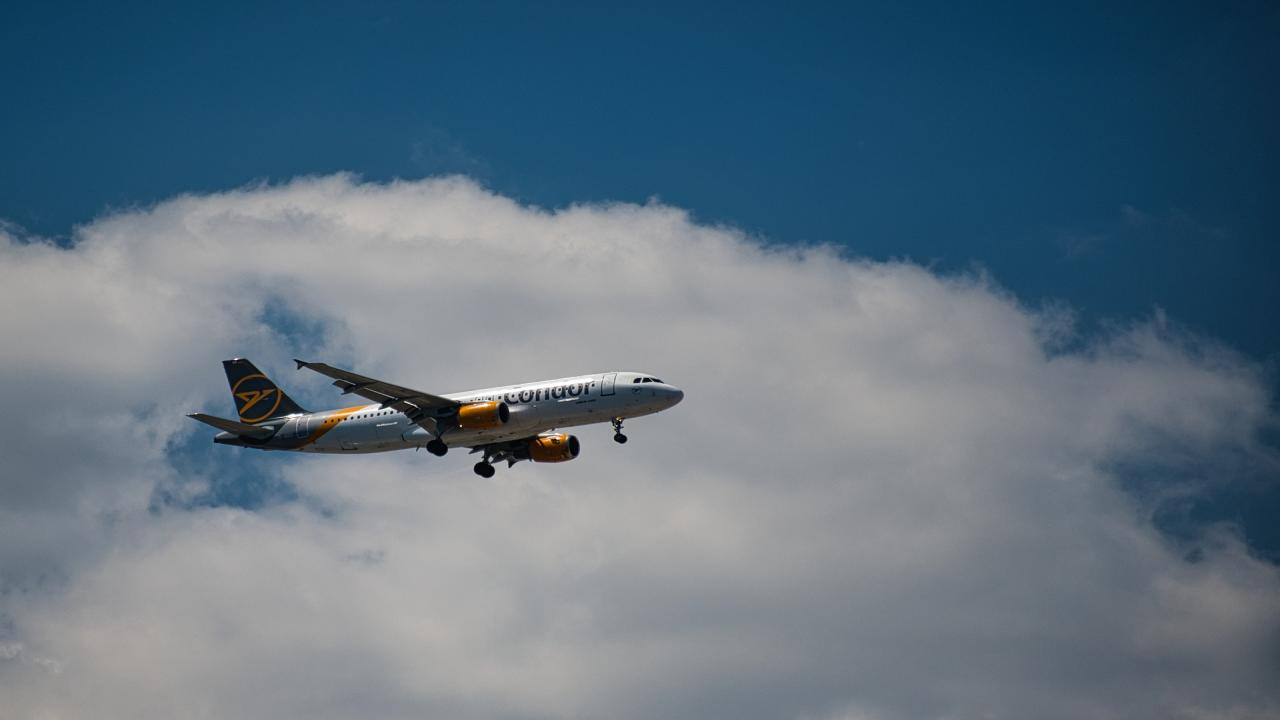Airplane: (174, 348, 698, 484)
